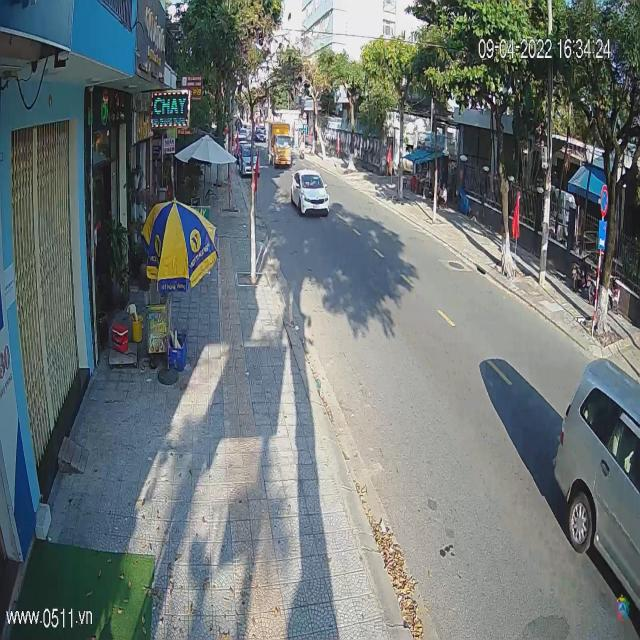bus: (292, 172, 331, 217)
car: (552, 346, 638, 638)
truck: (271, 125, 294, 168)
